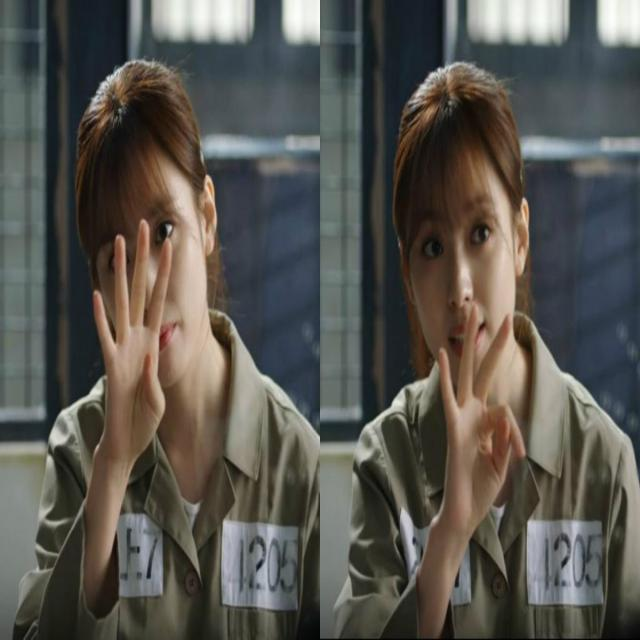nomask: (91, 150, 208, 393), (416, 152, 518, 389)
